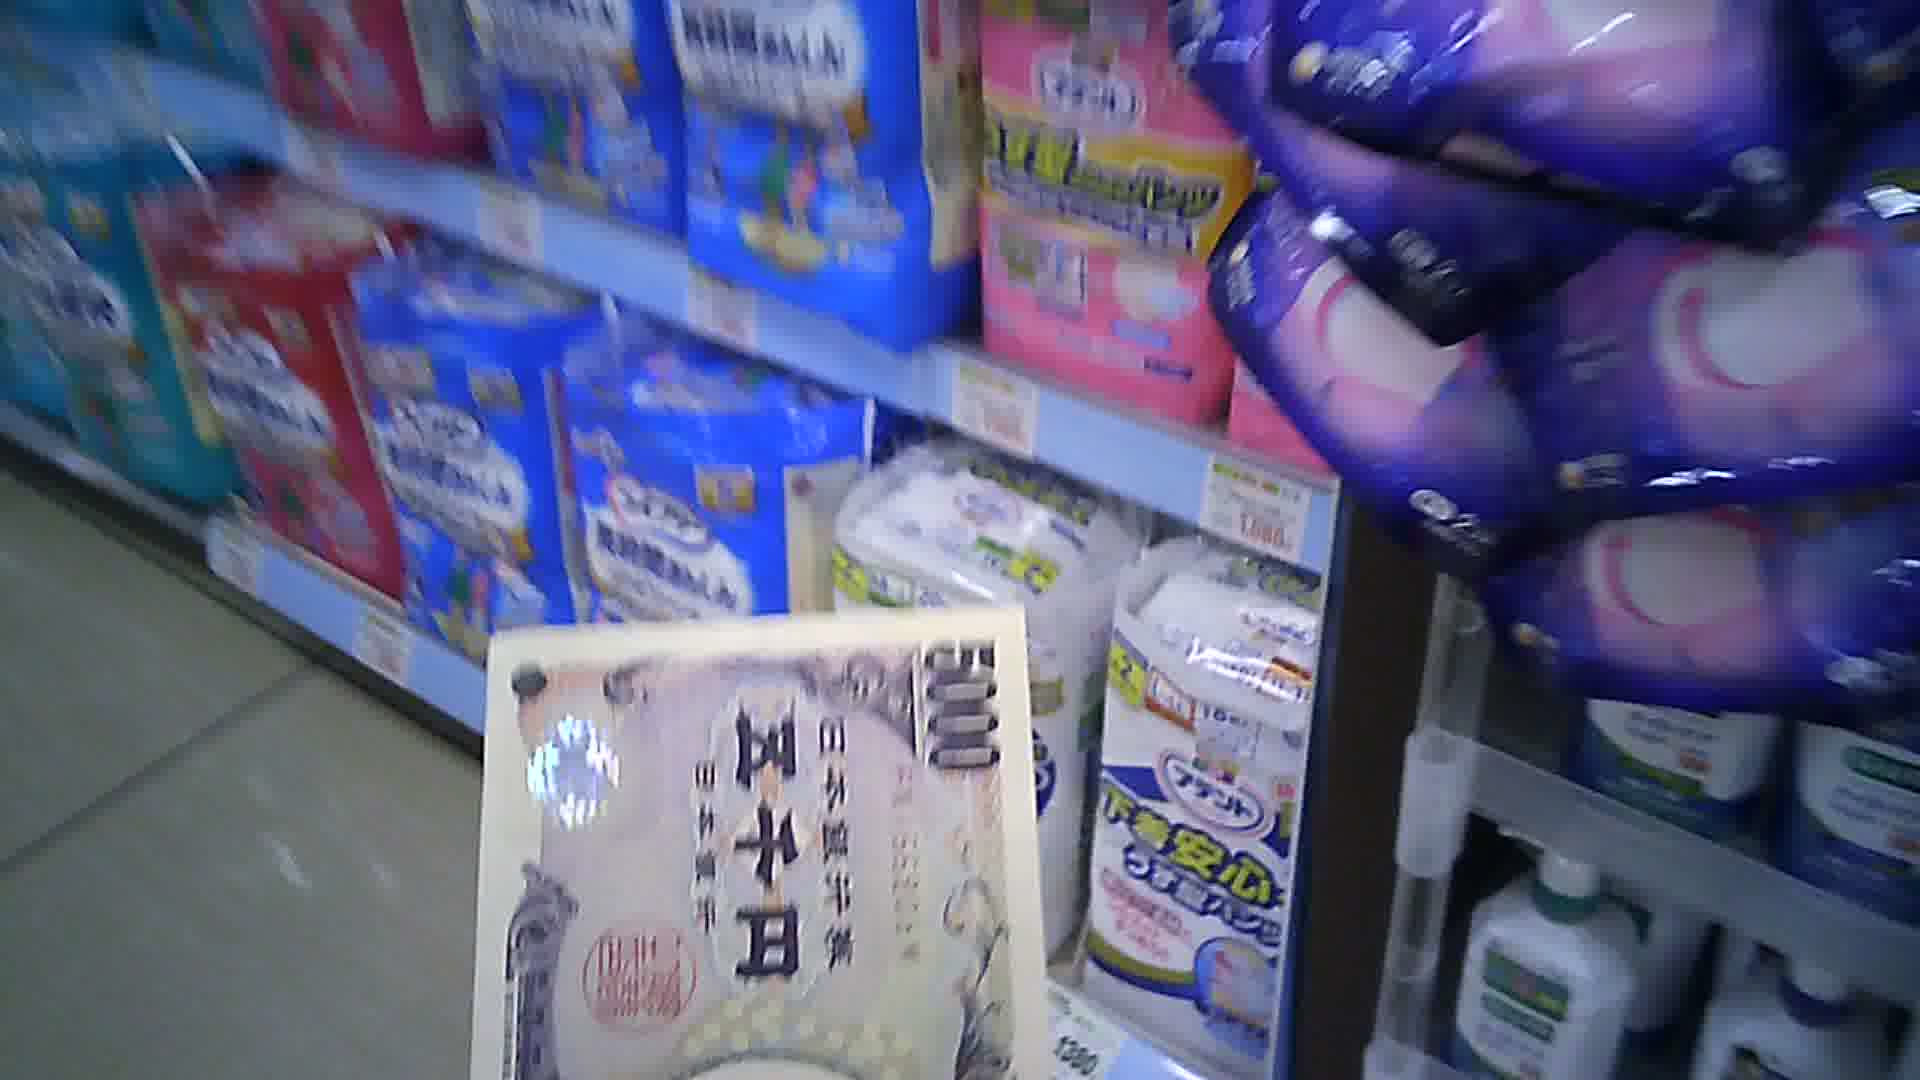5,000 Yen: (446, 574, 1072, 1079)
